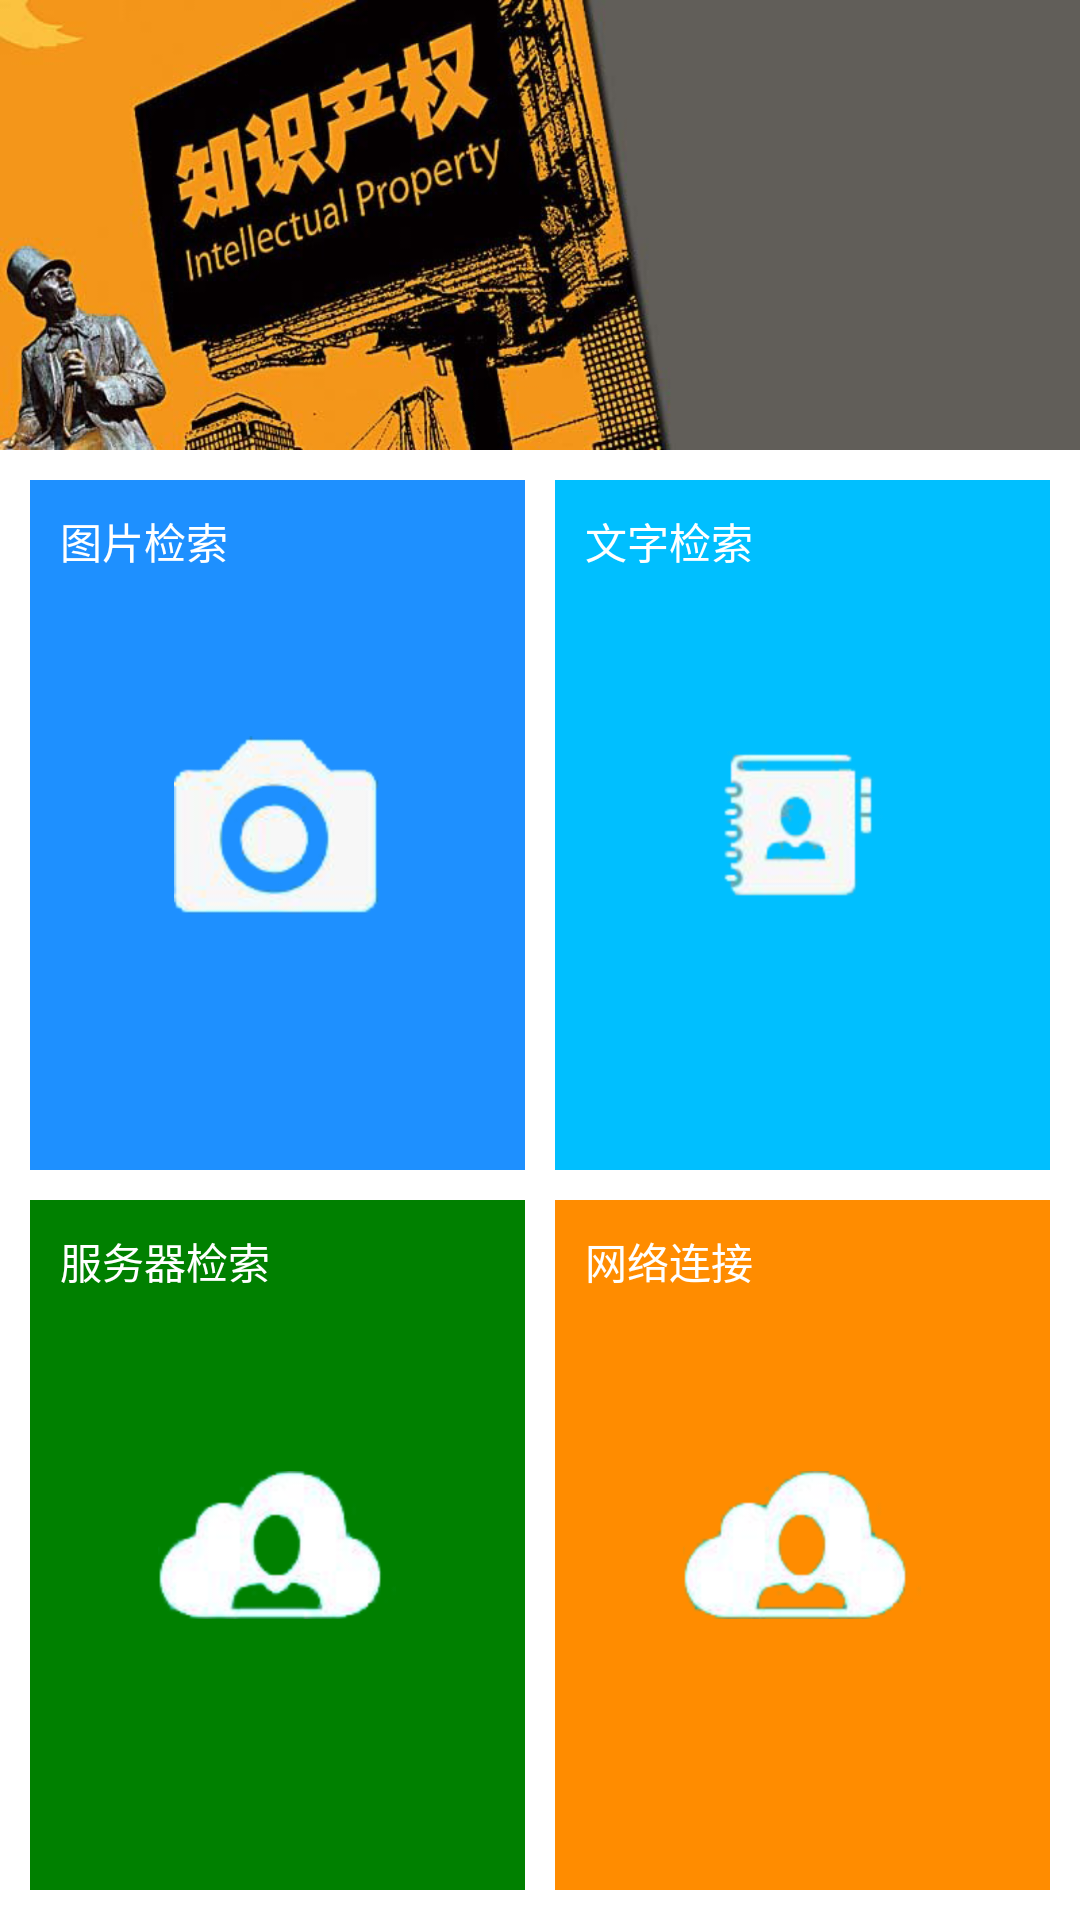

Point at icon controls on the screen. Image size 1080x1920, points as (x=x, y=y).
takecamera: (x=276, y=824)
